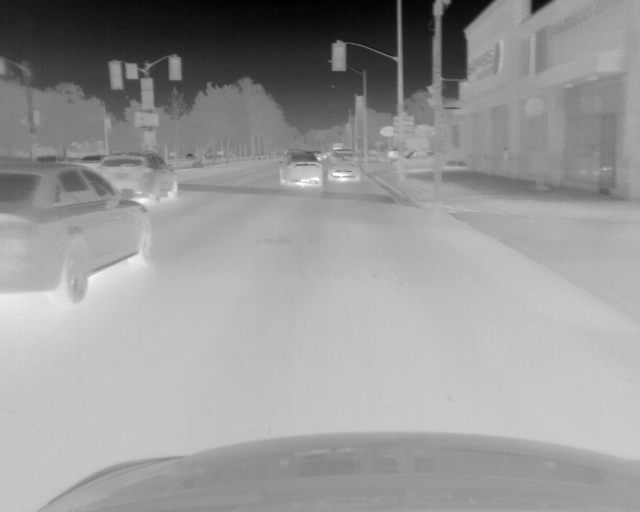car: (1, 156, 154, 301), (93, 151, 181, 201), (277, 150, 323, 190), (327, 150, 361, 184)
